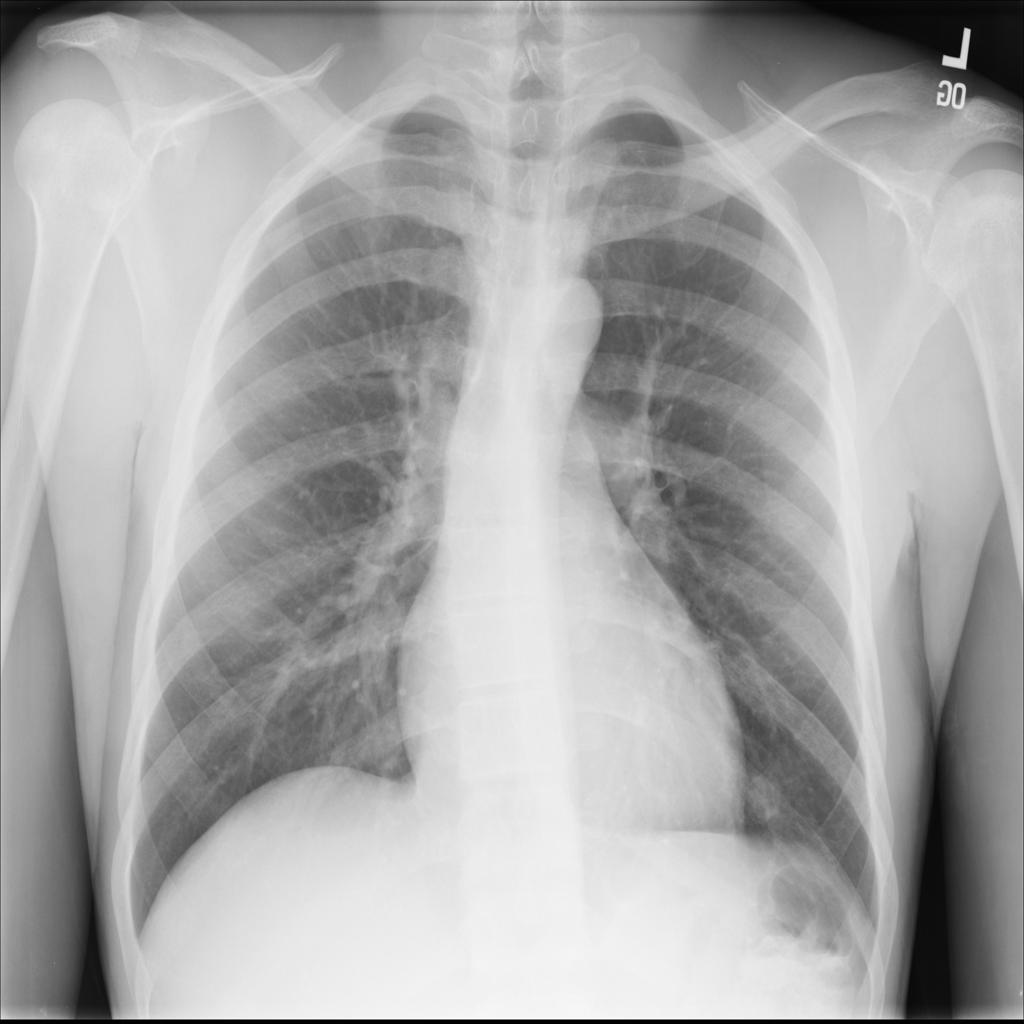nodule: (347, 709, 419, 787), (732, 757, 802, 836)
